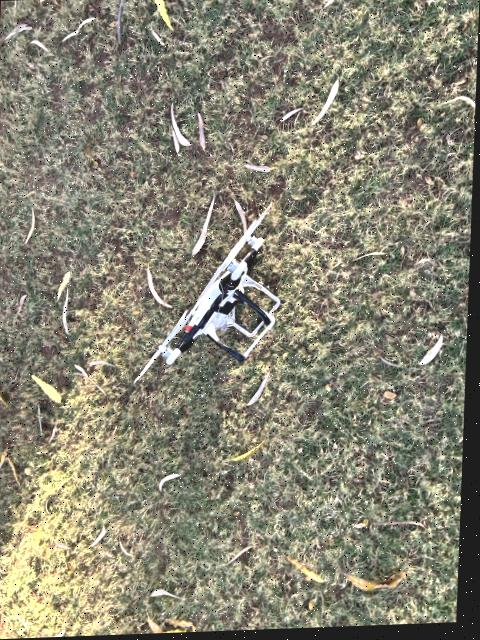drone: (85, 123, 339, 429)
